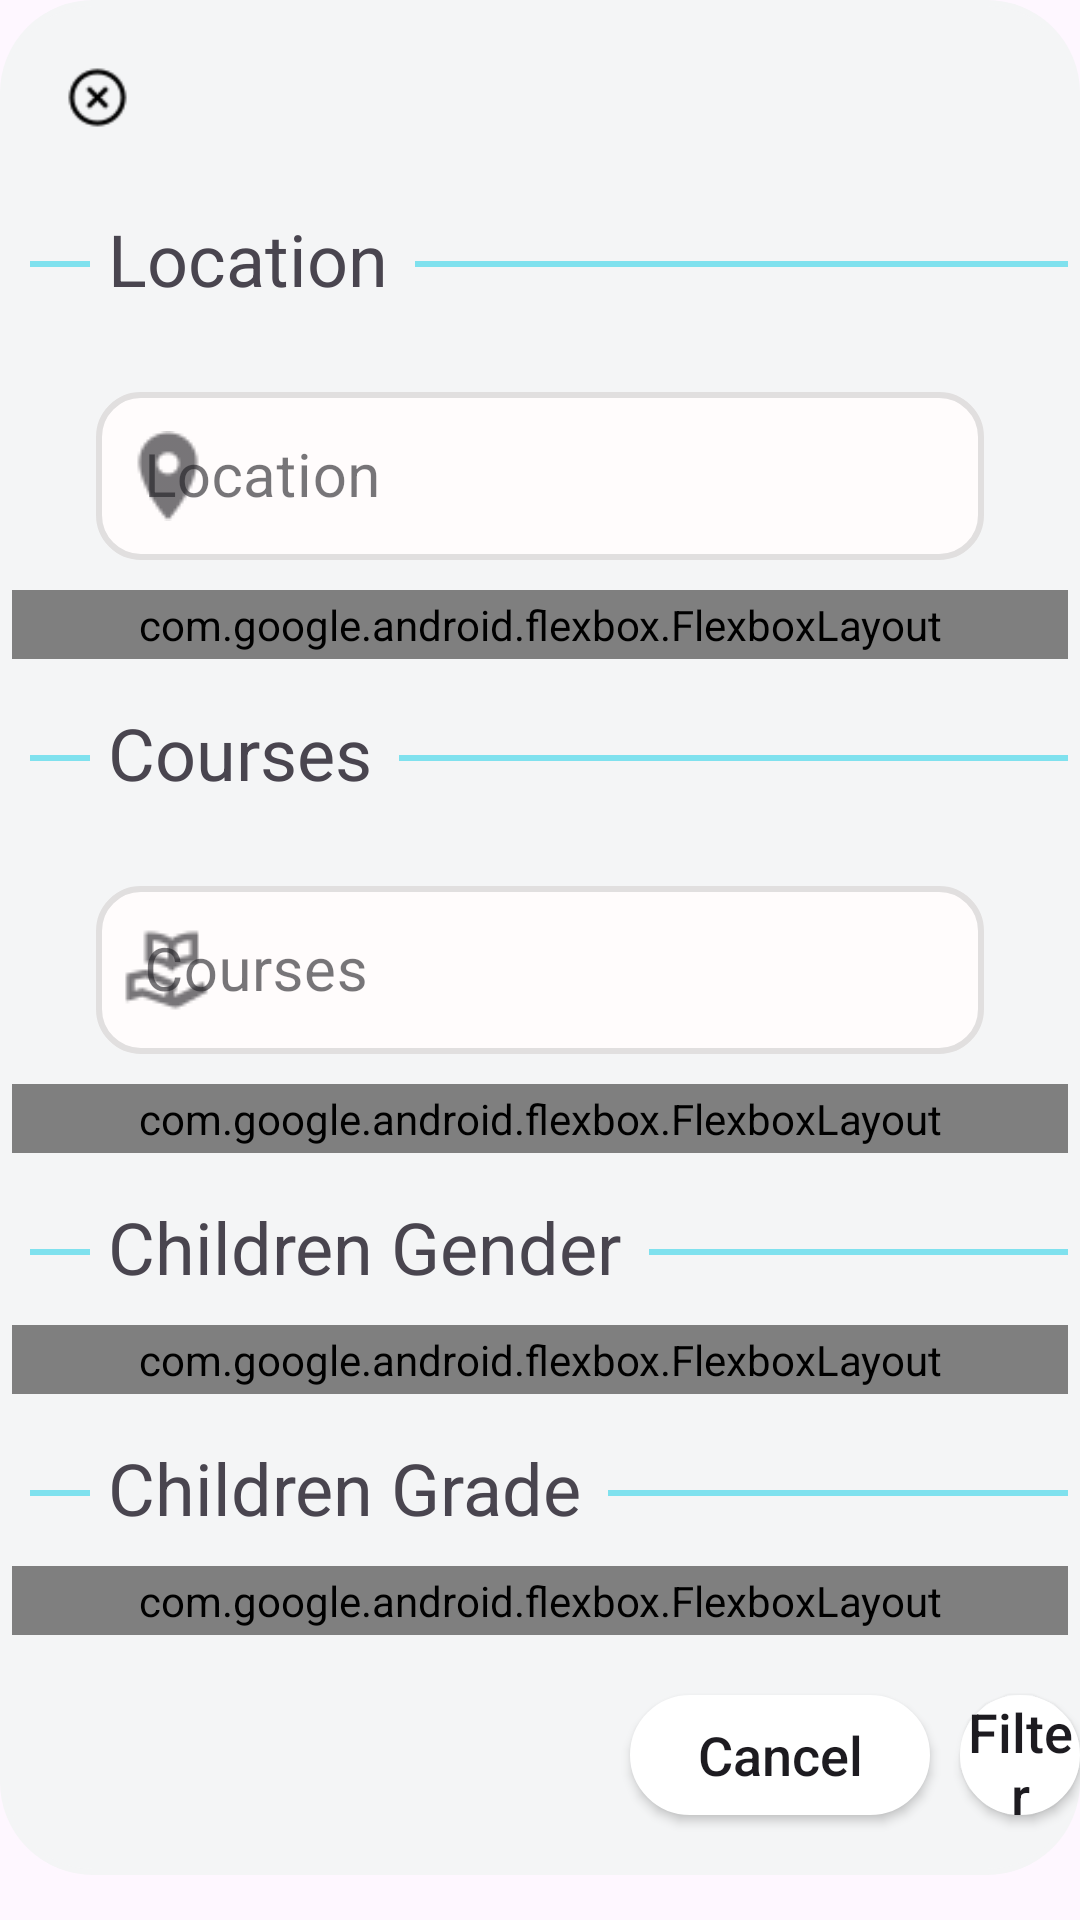

Icon bounding boxes for this 1080px×1920px phone screenshot, format bbox=(x1, y1, x2, y2):
close: bbox=(68, 68, 127, 127)
